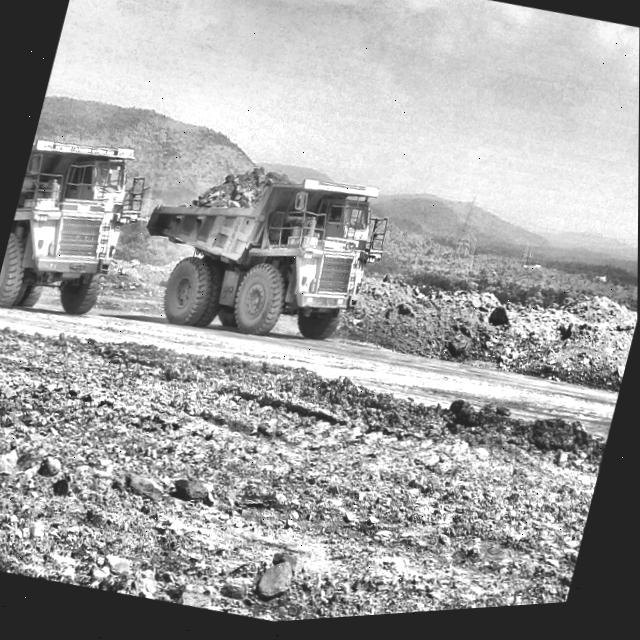dump_truck: (141, 175, 378, 345), (0, 145, 139, 316)
